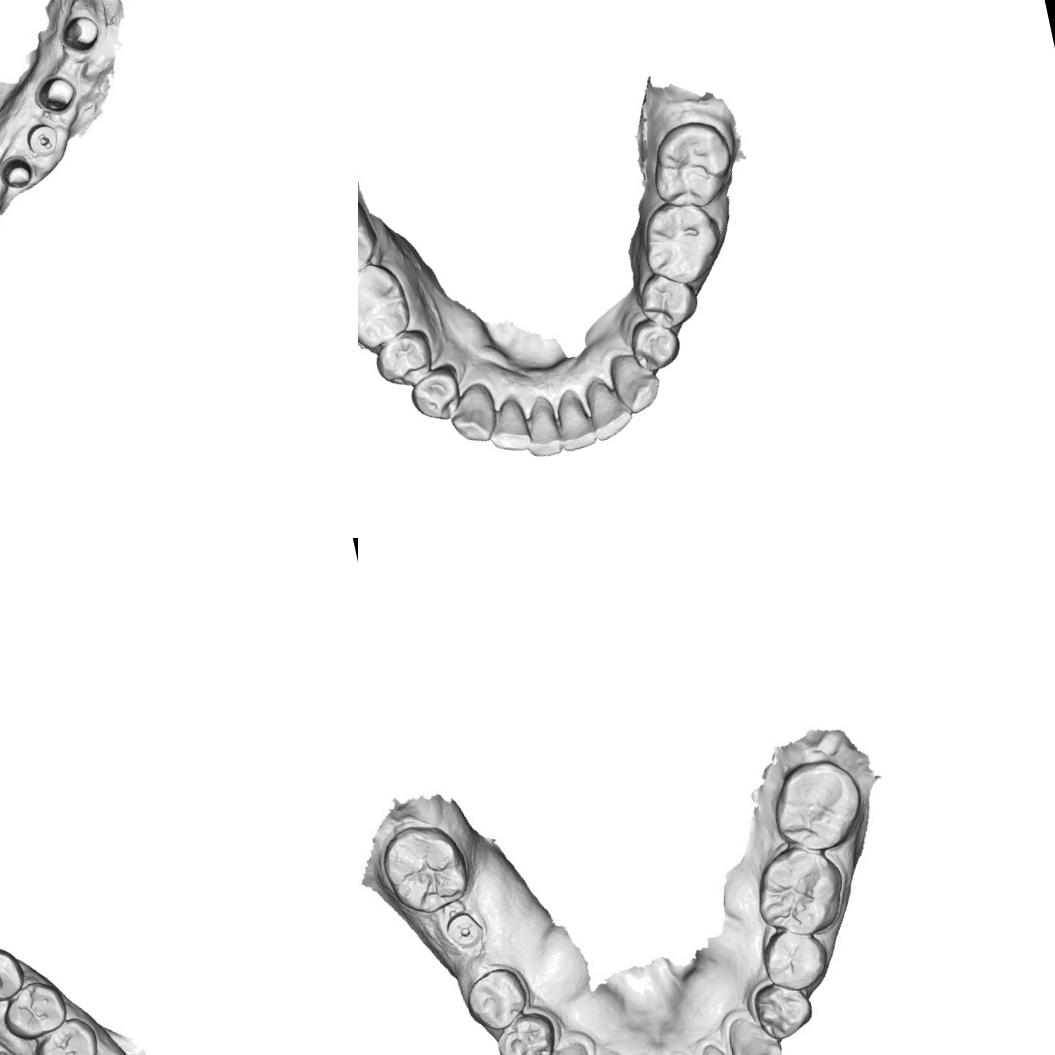abutment: (31, 69, 81, 119), (56, 8, 105, 56), (0, 150, 38, 195)
canine: (442, 378, 503, 448), (608, 348, 667, 418), (728, 1013, 792, 1055), (0, 940, 29, 1007), (530, 1037, 601, 1055)
implant_minus: (22, 118, 64, 160)
implant_plus: (440, 902, 489, 954)
incisor: (581, 371, 638, 444), (482, 394, 536, 457), (550, 388, 598, 454), (519, 398, 566, 460), (689, 1035, 751, 1055)
molar: (761, 752, 871, 859), (746, 838, 854, 946), (373, 814, 478, 923), (644, 114, 742, 216), (633, 195, 730, 294), (358, 257, 417, 356), (358, 185, 383, 290)
premolar: (756, 922, 835, 999), (458, 962, 532, 1036), (748, 976, 820, 1045), (0, 975, 71, 1044), (368, 323, 440, 391), (403, 361, 471, 430), (633, 267, 702, 335), (625, 312, 687, 376), (488, 1006, 565, 1055), (29, 1013, 104, 1055)
